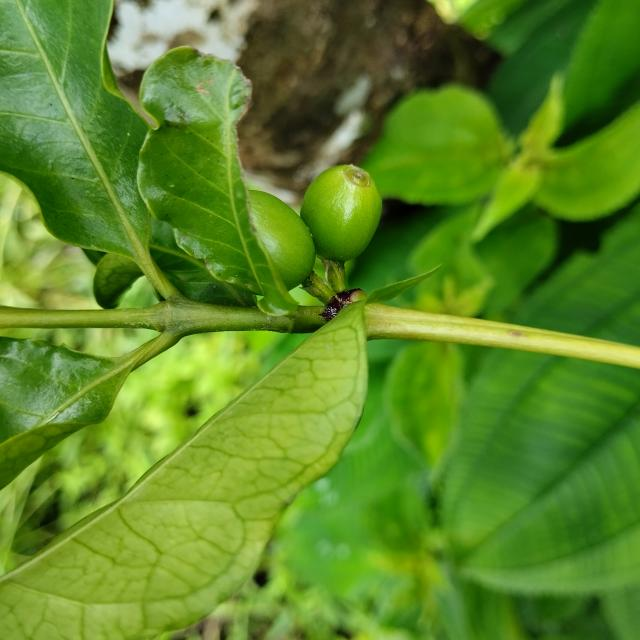green: (300, 164, 382, 263), (249, 190, 315, 290)
